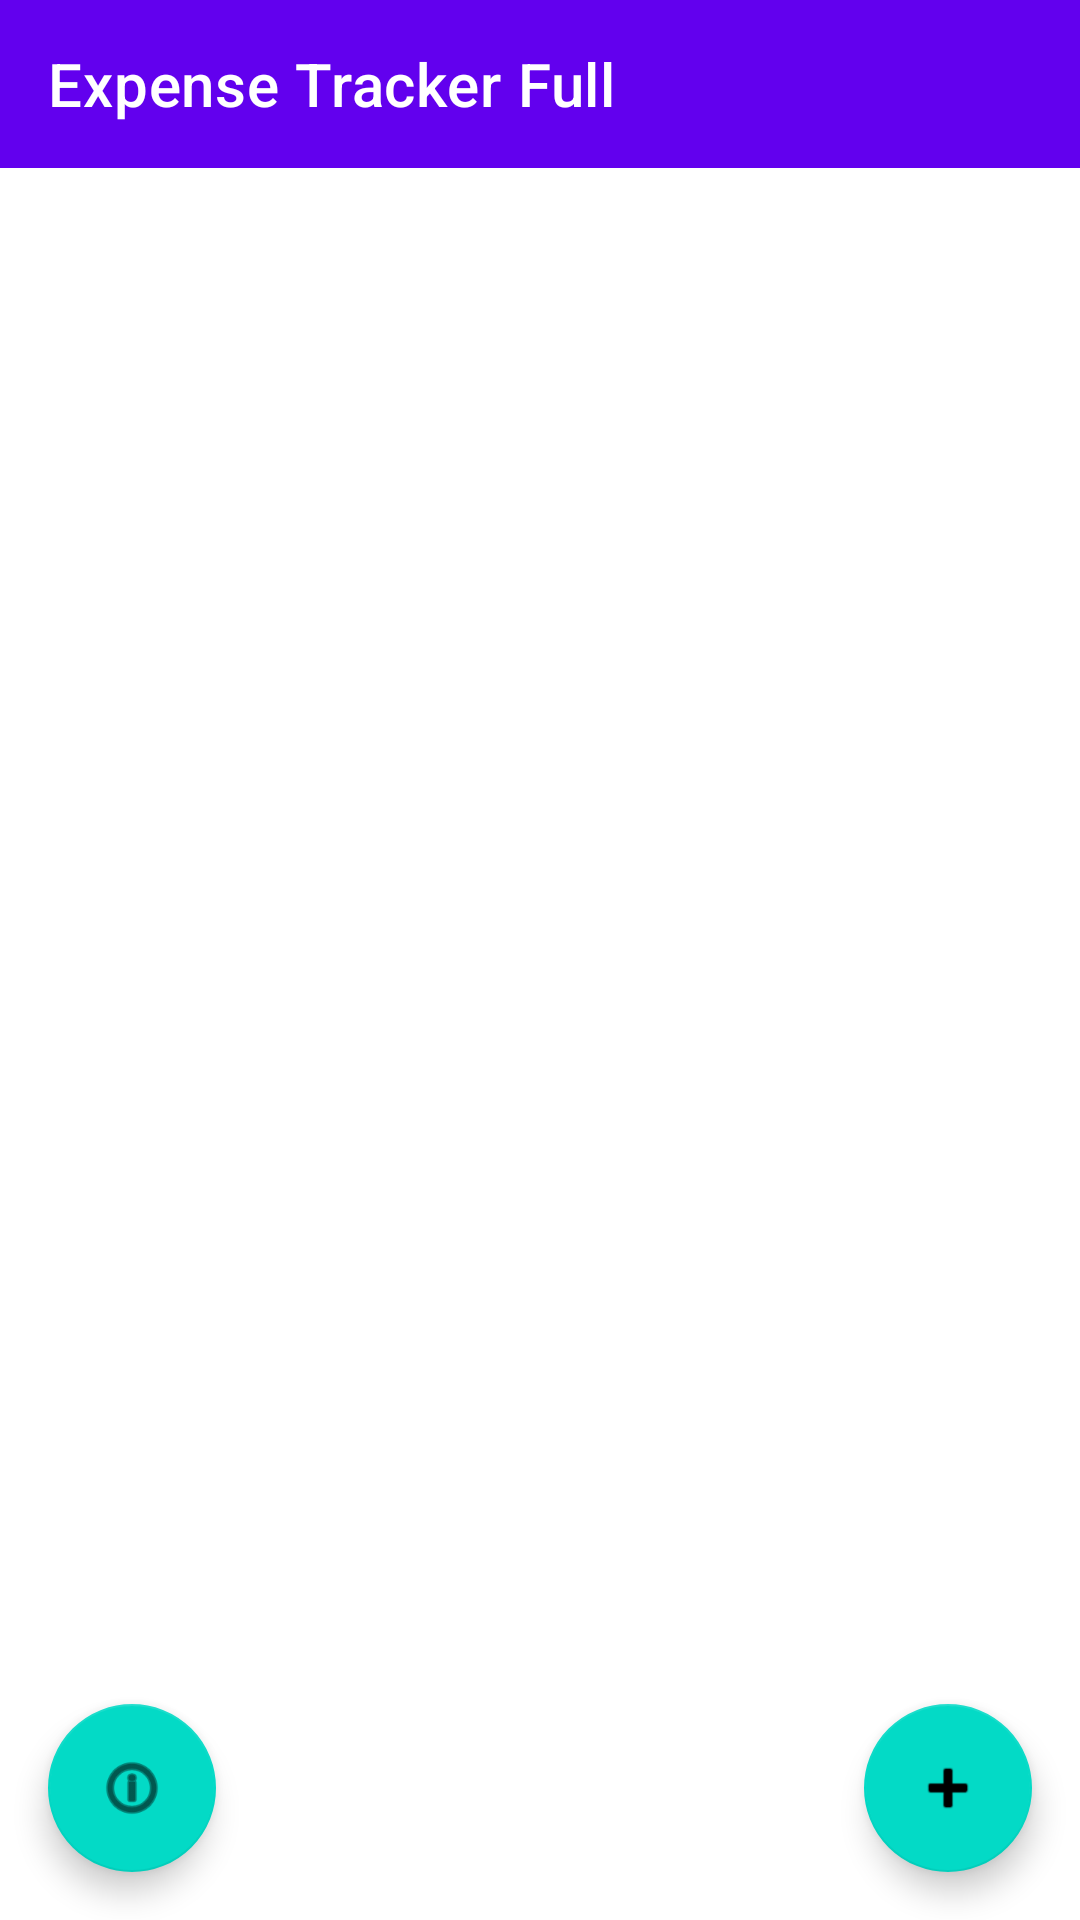

Named icons in this screenshot (1080×1920) and their centers, (x=x, y=y):
Agregar movimiento: (x=948, y=1788)
